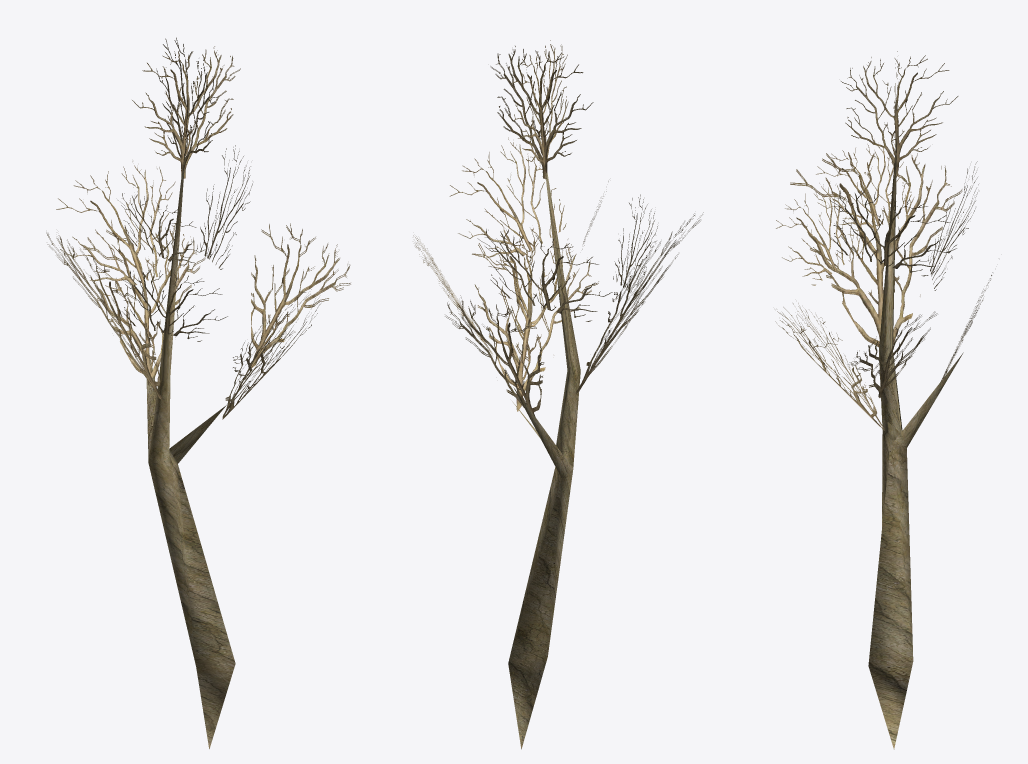
Rendered from decd_endr_destree_dead_l2.fbx.
The picture shows the model from 3 angles, left to right: view 1: azimuth 30°, elevation 25°; view 2: azimuth 150°, elevation 25°; view 3: azimuth 270°, elevation 25°; orthographic projection. The views are drawn at different scales.
Parts seen in each view (by area): view 1: mesh_node; view 2: mesh_node; view 3: mesh_node.
Part boxes in pixels (x1,y1,x2,y2): mesh_node: [46, 37, 350, 748]; mesh_node: [413, 40, 703, 749]; mesh_node: [775, 51, 992, 749].
Size of the model in its own units: 7.41 by 17.48 by 5.85.
